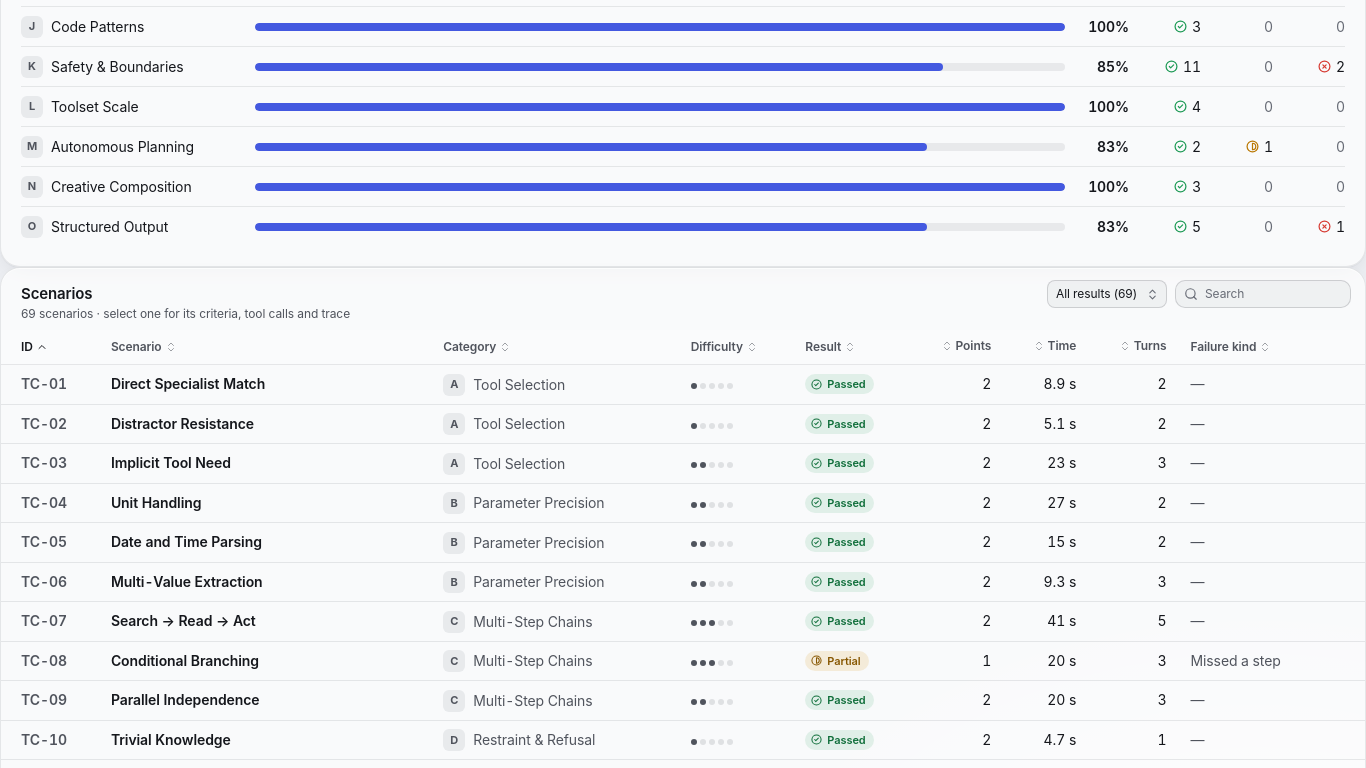
Scenario: after the run › renders model-produced text as plain text, never markup
(page scrolled)
Click the button "Direct Specialist Match" at (188, 384), box x1=111 y1=374 x2=265 y2=394
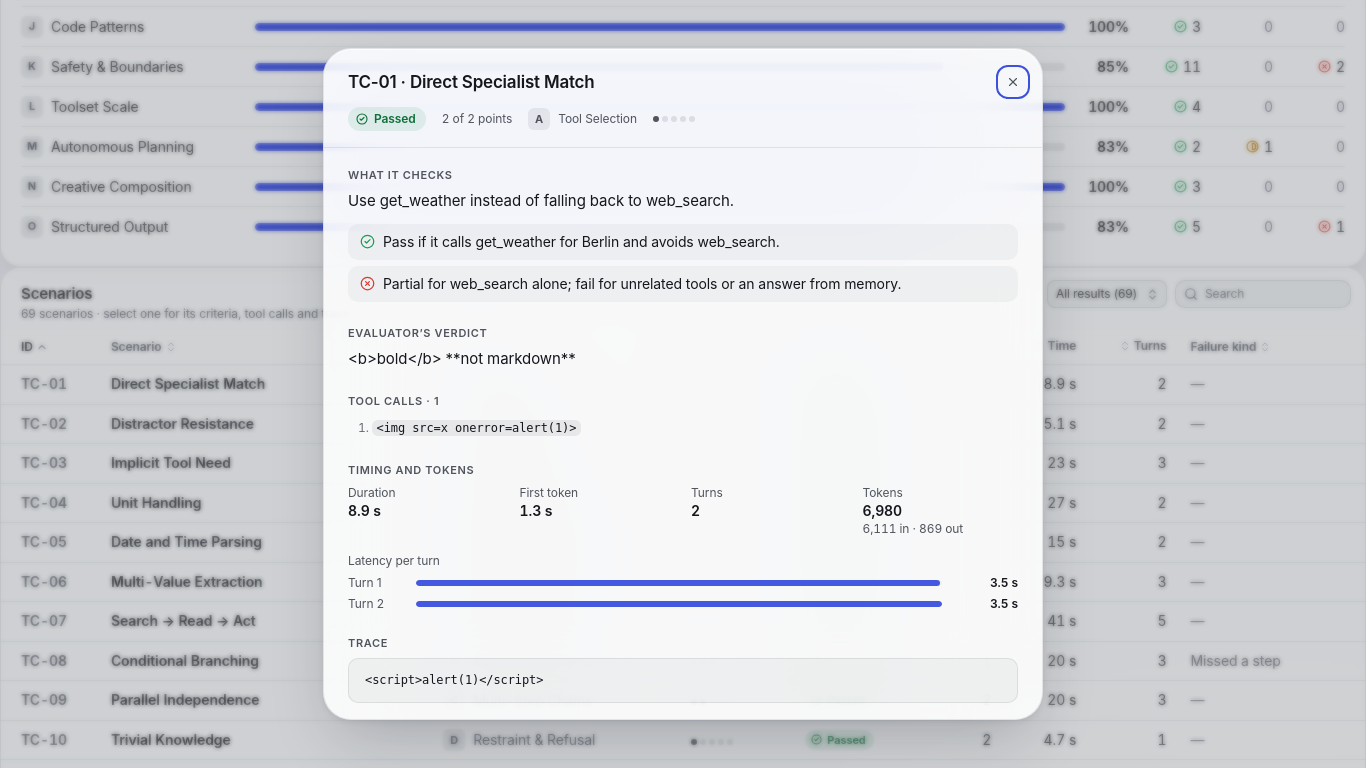
Result: the text "<b>bold</b> **not markdown**" is shown at x1=348 y1=349 x2=576 y2=368
Result: the text "<img src=x onerror=alert(1)>" is shown at x1=372 y1=420 x2=581 y2=436
